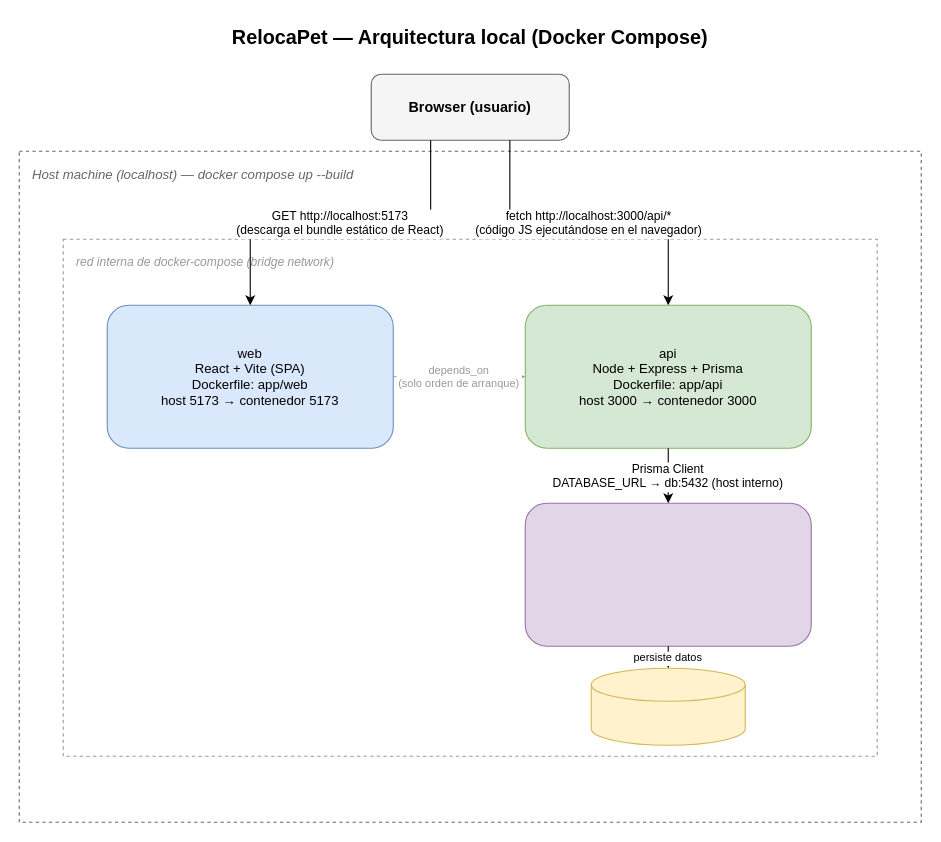
Some shapes in this 941 by 842 pixel diagram are drawn without their labels. The centre of each missing label's shape, as x and y in pixels:
"db postgres:16-alpine host 5432 → contenedor 5432" belongs at point (667, 574).
"postgres_data (volumen Docker)" belongs at point (667, 706).
